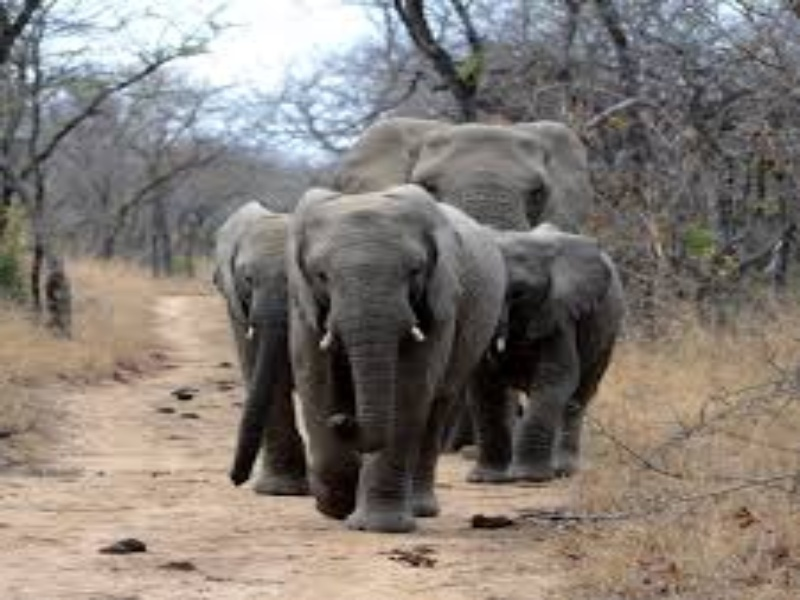elephant: (281, 172, 499, 556), (343, 65, 644, 211), (160, 185, 303, 484)
